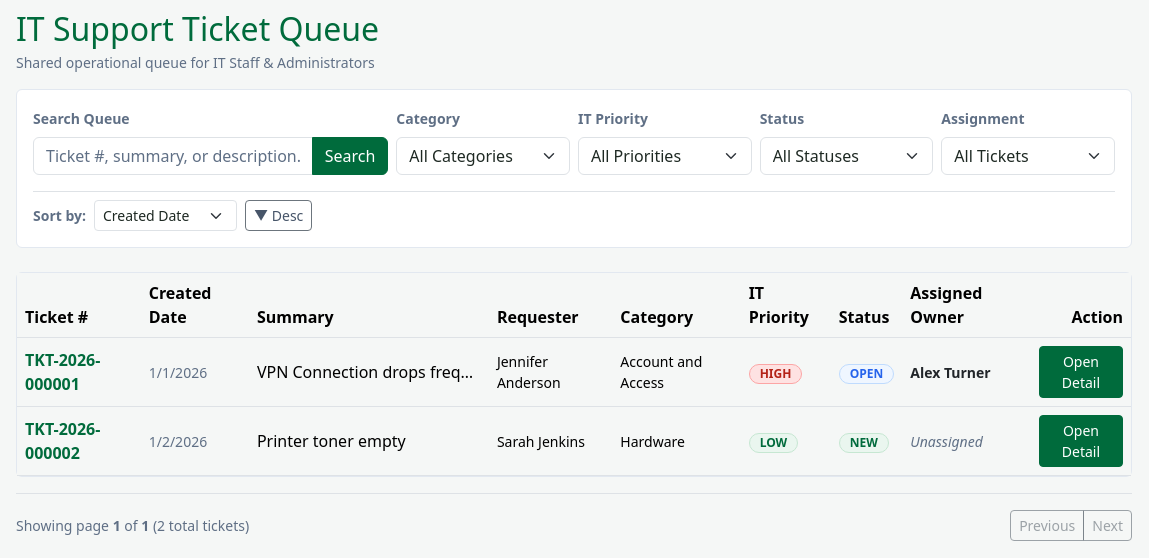
Test: UI-04: IT Staff Ticket Queue Component Tests (AC-10, AC-11) › displays no-results state and clear filters action when queue is empty (AC-11)
Type "NonExistent" into the field with placeholder "Ticket #, summary, or description..." at (173, 156), box [33,137,313,175]
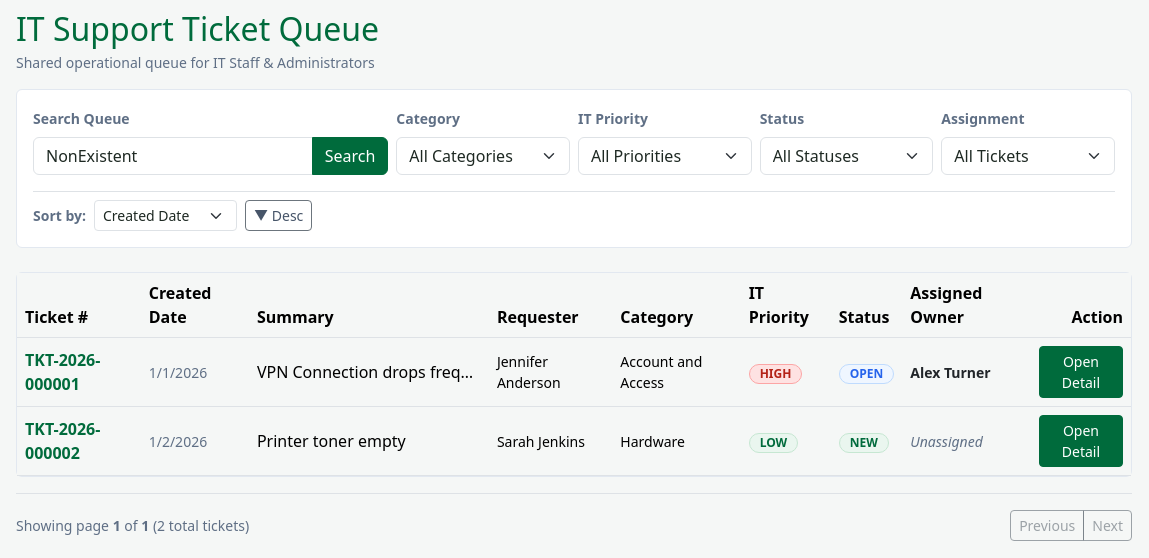
Click the button "Search" at (350, 156), box [312,137,388,175]
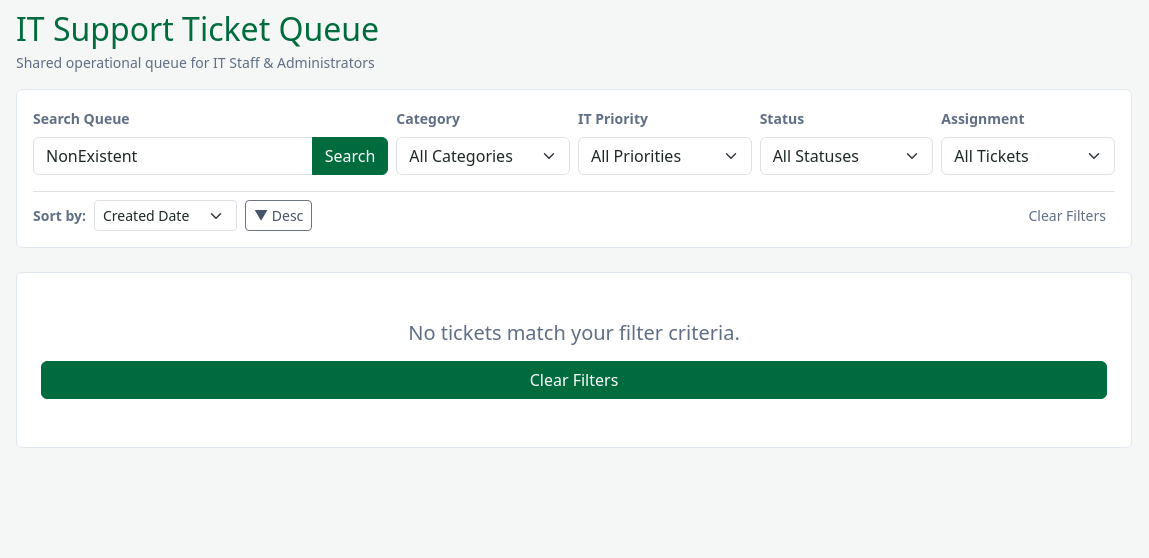
expect the heading "No tickets match your filter criteria." is shown: met, box [408,319,740,346]
expect the button "Clear Filters" in the row of "Sort by:" is shown: met, box [1019,200,1115,231]
